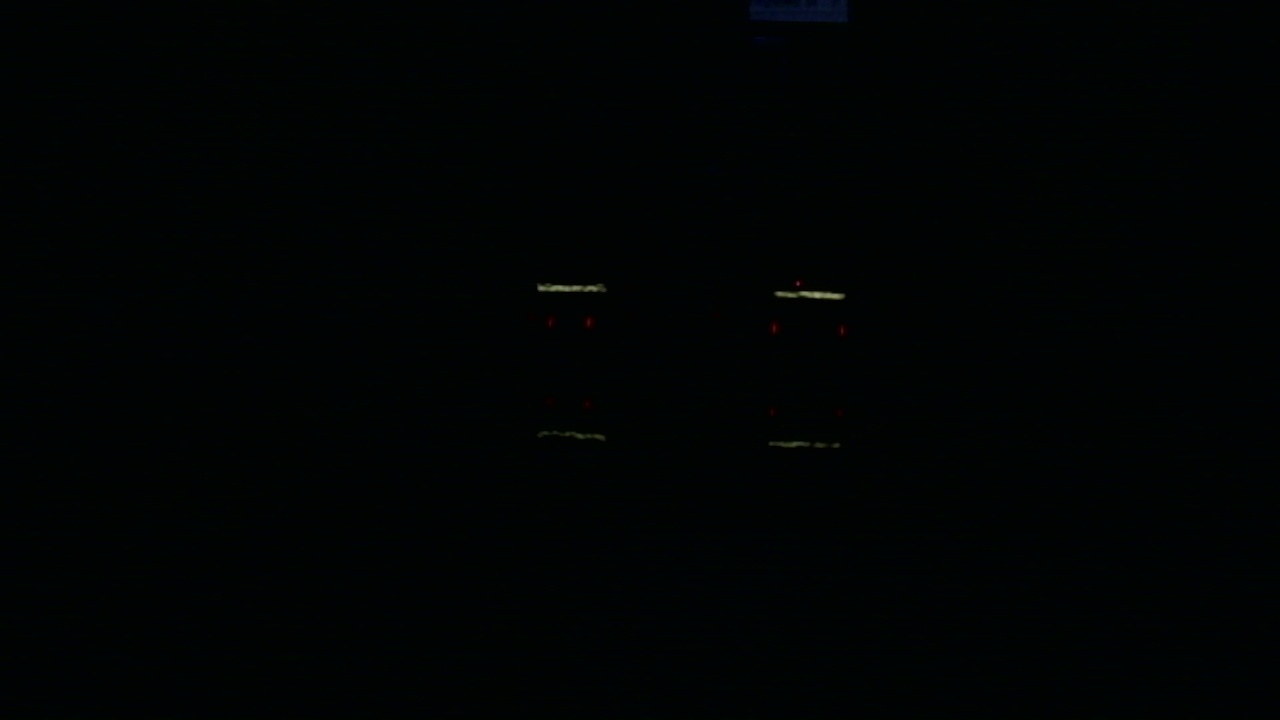lamp: (839, 320, 847, 337), (771, 321, 778, 335), (586, 315, 593, 326), (548, 316, 553, 327)
pair1: (548, 317, 591, 326)
pair2: (771, 321, 844, 338)
